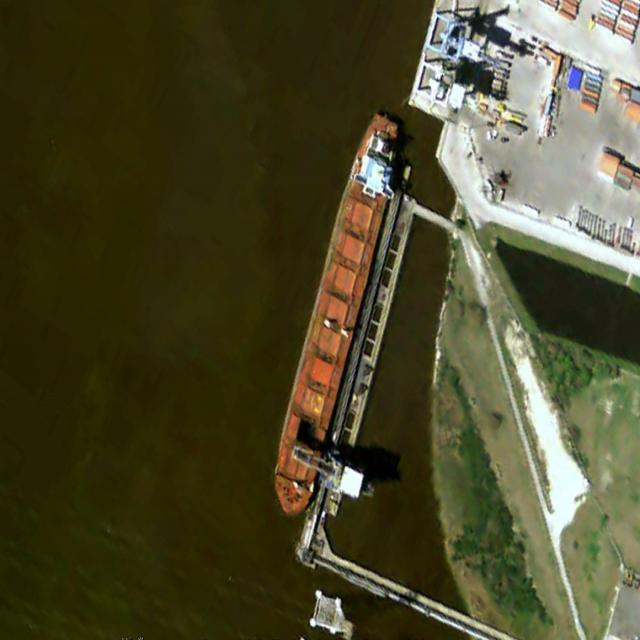Cargo: (263, 106, 408, 523)
